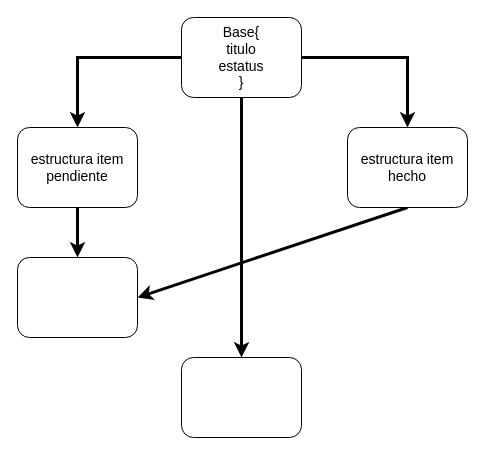
This 485x455 diagram has some shape labels left out. The box of each missing label's shape, as (x1, y1, x2, y2) in pixels:
interface fabrica comercio: (16, 256, 138, 338)
serializacion JSON: (180, 356, 302, 438)
